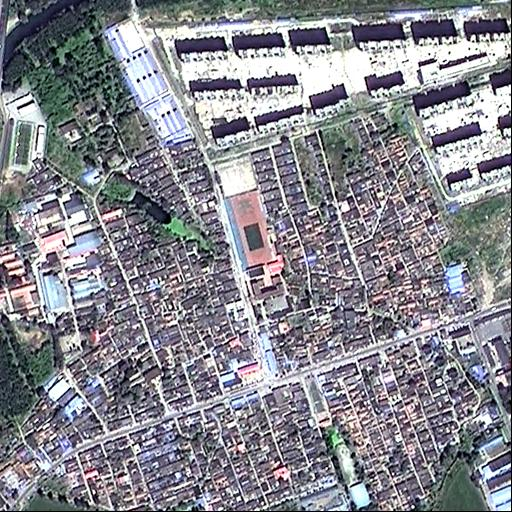school: (223, 185, 294, 317)
